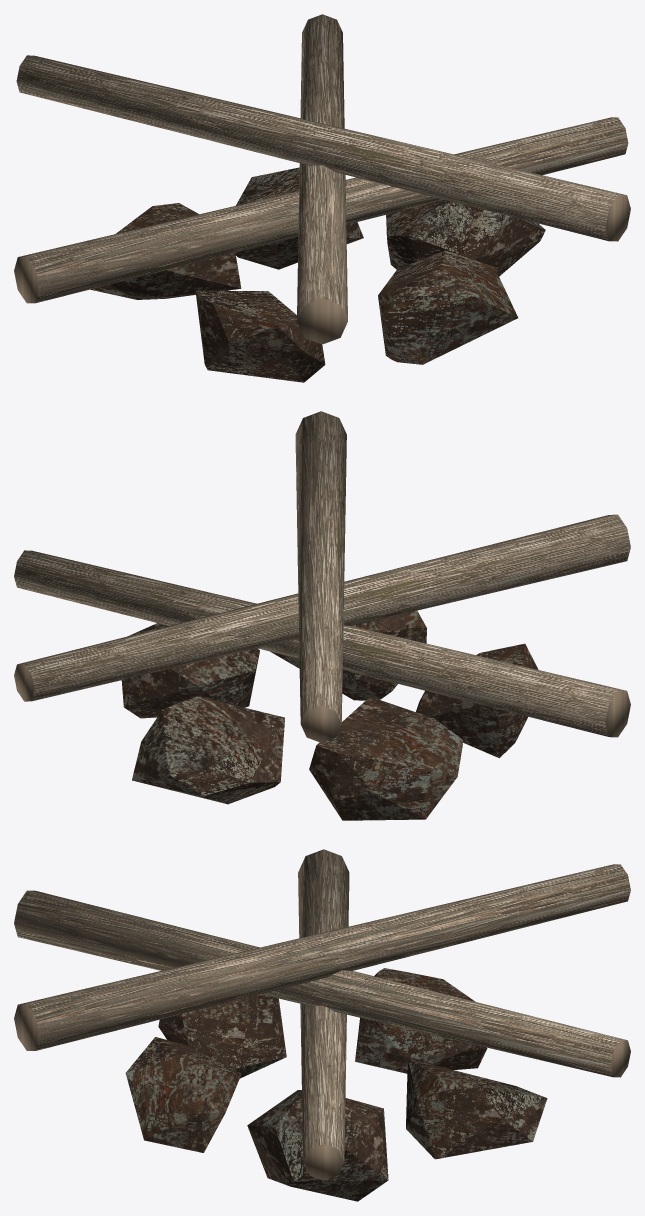
Rendered from SM_Item_campfire_kit.gltf.
3 renders of one model, top to bottom at view 1: azimuth 30°, elevation 25°; view 2: azimuth 150°, elevation 25°; view 3: azimuth 270°, elevation 25°, orthographic.
Parts seen in each view (by area): view 1: SM_Item_campfire_kit; view 2: SM_Item_campfire_kit; view 3: SM_Item_campfire_kit.
Boxes of the visible parts, <box> form: SM_Item_campfire_kit: <box>14,14,630,382</box>; SM_Item_campfire_kit: <box>14,411,630,820</box>; SM_Item_campfire_kit: <box>14,849,630,1201</box>.
Bounding box in the file's own units: 0.4 × 0.1305 × 0.3599.
Materials: 2 (2 with a texture image).
